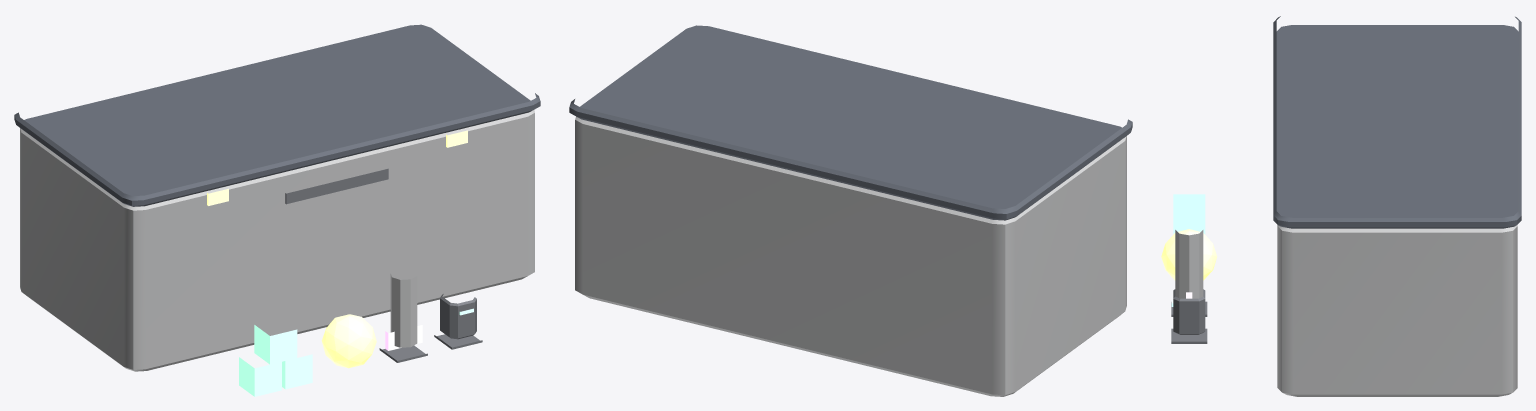
File: iter_01.glb
3 views of the same model, side by side, from view 1: azimuth 30°, elevation 25°; view 2: azimuth 150°, elevation 25°; view 3: azimuth 270°, elevation 25° (orthographic). The views are drawn at different scales.
Parts seen in each view (by area): view 1: Bin_Body, Bin_Lid, Toy_Blocks, Toy_Ball, Toy_Rocket, Toy_Sprocket, Grip_Slot, Mag_Pads, Lid_Latches; view 2: Bin_Body, Bin_Lid; view 3: Bin_Lid, Bin_Body, Toy_Rocket, Toy_Sprocket, Toy_Blocks, Toy_Ball, Mag_Pads.
Part boxes in pixels (box(x1,y1,x2,y2)): Bin_Body: box(20, 110, 534, 371); Bin_Lid: box(14, 24, 540, 206); Toy_Blocks: box(239, 325, 312, 396); Toy_Ball: box(321, 314, 376, 368); Toy_Rocket: box(390, 274, 417, 347); Toy_Sprocket: box(440, 294, 476, 339); Grip_Slot: box(285, 168, 388, 204); Mag_Pads: box(379, 334, 482, 362); Lid_Latches: box(207, 130, 467, 205); Bin_Body: box(575, 116, 1126, 396); Bin_Lid: box(569, 25, 1132, 220); Bin_Lid: box(1273, 16, 1521, 228); Bin_Body: box(1277, 225, 1517, 396); Toy_Rocket: box(1175, 230, 1203, 298); Toy_Sprocket: box(1173, 289, 1205, 334); Toy_Blocks: box(1173, 194, 1205, 234); Toy_Ball: box(1161, 229, 1217, 280); Mag_Pads: box(1171, 301, 1207, 343).
Bounding box in the file's own units: 1.22 × 0.5 × 0.9.
